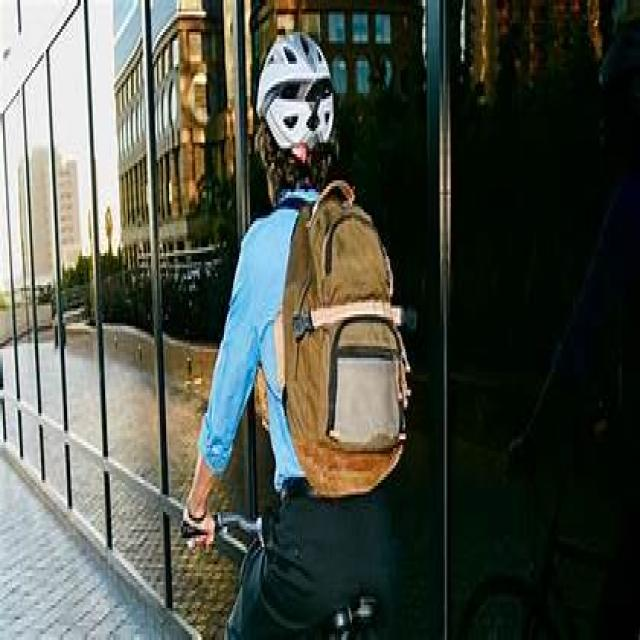backpack: (276, 179, 413, 499)
